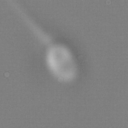normal: (1, 1, 54, 43)
